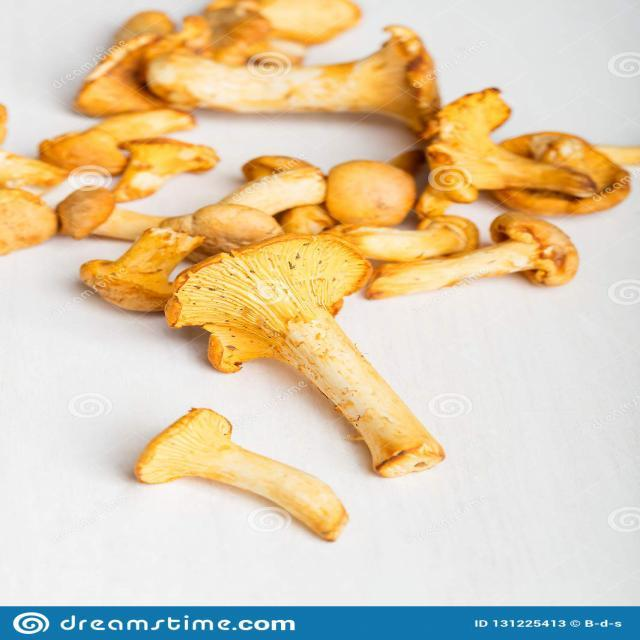Cantharellus cibarius: (167, 230, 449, 478), (136, 25, 441, 127), (127, 401, 349, 538), (430, 87, 640, 213), (352, 221, 585, 298), (28, 108, 213, 177), (83, 228, 195, 312), (51, 177, 173, 241), (327, 161, 424, 228)
